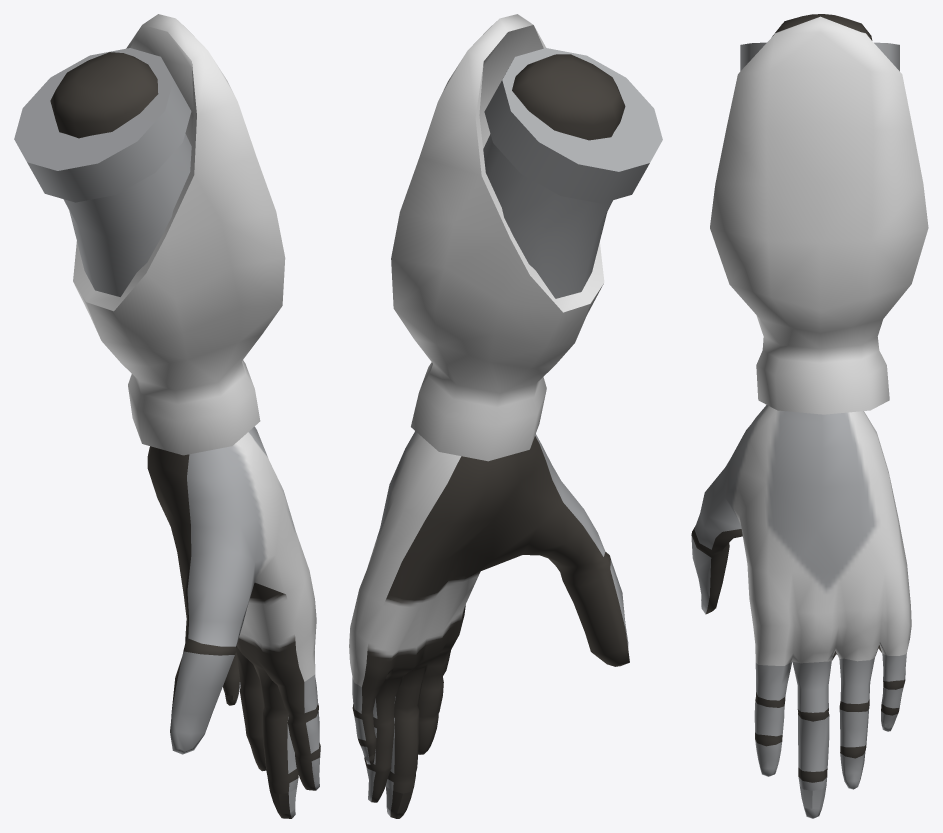
File: ranger_hand.fbx
3 renders of one model, left to right at view 1: azimuth 30°, elevation 25°; view 2: azimuth 150°, elevation 25°; view 3: azimuth 270°, elevation 25°, orthographic. The views are drawn at different scales.
Parts seen in each view (by area): view 1: hand; view 2: hand; view 3: hand.
Part boxes in pixels (bbox=[...]): hand: bbox=[14, 14, 320, 818]; hand: bbox=[349, 14, 662, 818]; hand: bbox=[691, 14, 928, 818].
Bounding box in the file's own units: 19.64 × 57.49 × 16.4.
